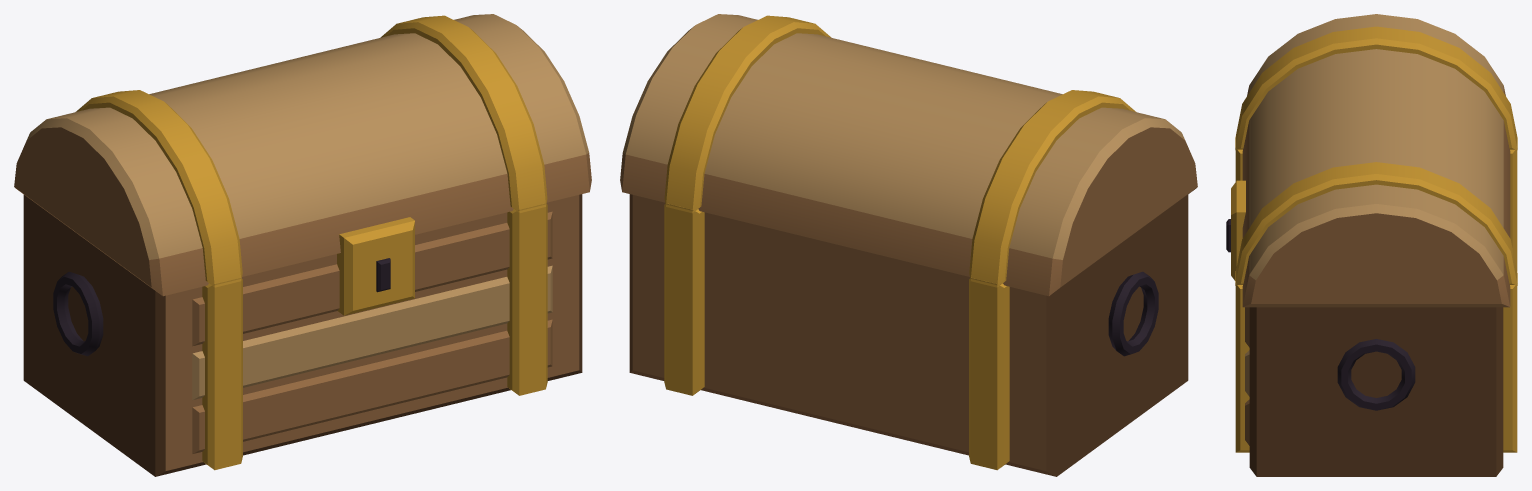
Rendered from Chest_08.glb.
3 renders of one model, left to right at view 1: azimuth 30°, elevation 25°; view 2: azimuth 150°, elevation 25°; view 3: azimuth 270°, elevation 25°, orthographic. The views are drawn at different scales.
Parts seen in each view (by area): view 1: Chest_08; view 2: Chest_08; view 3: Chest_08.
Part boxes in pixels (x1=…): Chest_08: x1=14, y1=14, x2=591, y2=476; Chest_08: x1=620, y1=14, x2=1197, y2=476; Chest_08: x1=1226, y1=14, x2=1517, y2=476.
Bounding box in the file's own units: 4.14 × 2.66 × 2.49.
